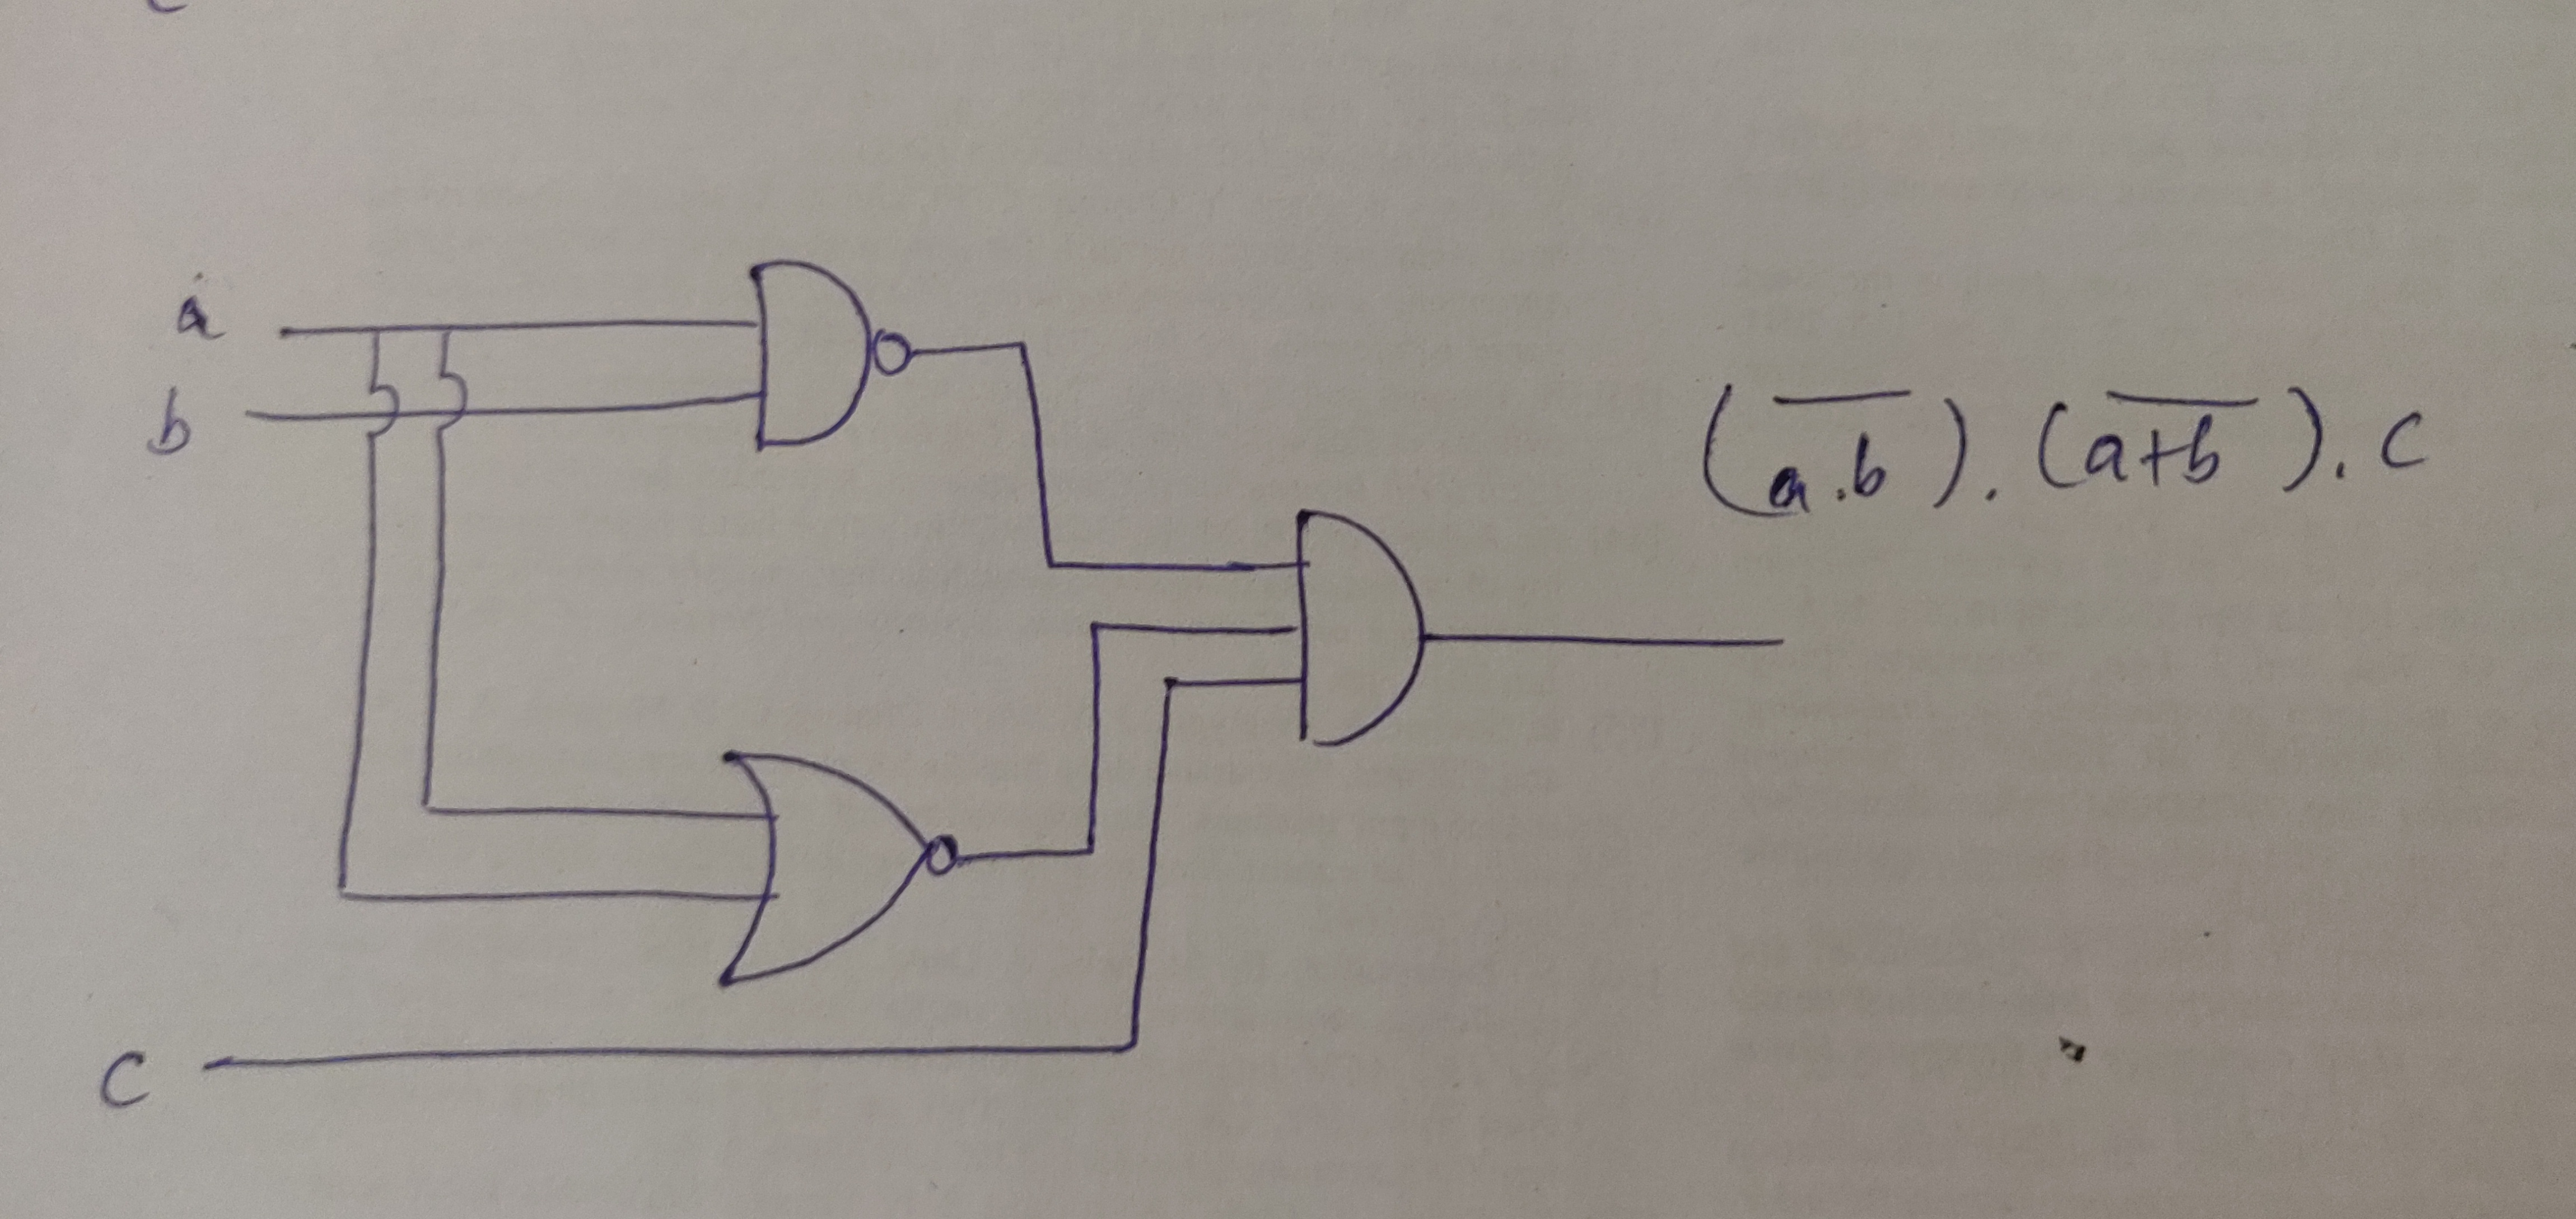and: (1265, 478, 1472, 810)
nand: (705, 227, 941, 478)
nor: (672, 708, 987, 1015)
